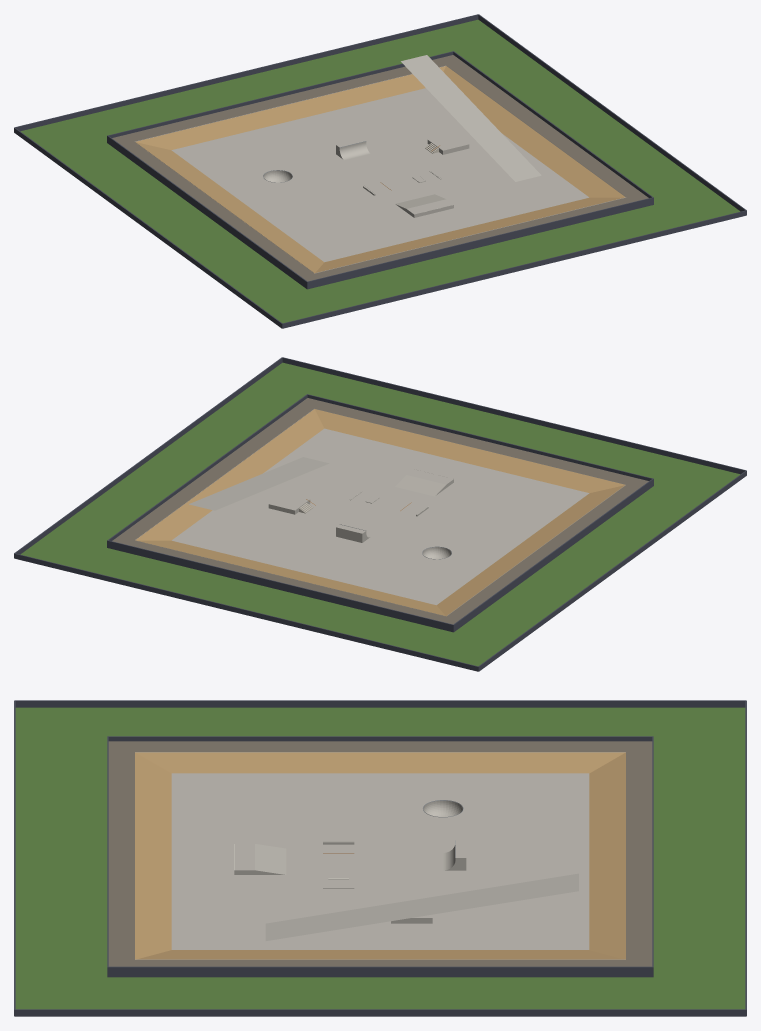
File: spot_ovningsplanen.glb
3 renders of one model, top to bottom at view 1: azimuth 30°, elevation 25°; view 2: azimuth 150°, elevation 25°; view 3: azimuth 270°, elevation 25°, orthographic. The views are drawn at different scales.
Parts seen in each view (by area): view 1: spot_ovningsplanen; view 2: spot_ovningsplanen; view 3: spot_ovningsplanen.
Boxes of the visible parts, left/top/right/bottom form: spot_ovningsplanen: left=14, top=14, right=746, bottom=328; spot_ovningsplanen: left=14, top=357, right=746, bottom=671; spot_ovningsplanen: left=14, top=700, right=746, bottom=1016.
Size of the model in its own units: 140 by 13.28 by 140.
Materials: 1 (1 with a texture image).
